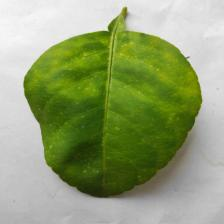greening: (66, 51, 191, 136)
